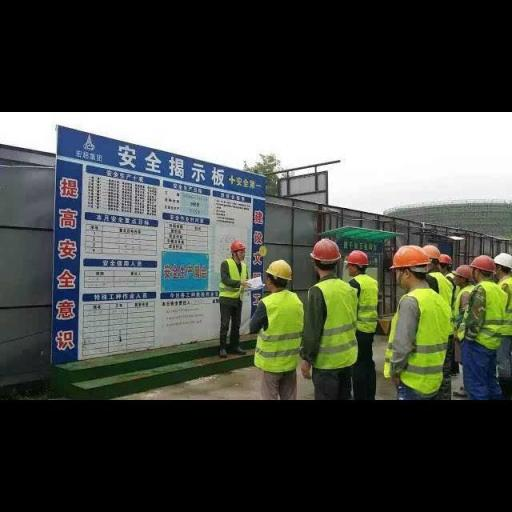Hardhat: (302, 236, 386, 403), (383, 233, 466, 399), (448, 235, 510, 403), (406, 222, 468, 363), (254, 255, 310, 399), (336, 246, 386, 400), (218, 238, 256, 380), (443, 250, 477, 384), (484, 238, 512, 352), (432, 230, 458, 346)
NO-Safety Vest: (384, 242, 430, 276), (262, 255, 298, 287), (305, 237, 343, 264), (466, 246, 496, 278), (447, 256, 476, 286), (416, 235, 443, 266), (346, 236, 370, 270), (488, 242, 512, 270), (228, 235, 249, 258), (435, 245, 454, 270)
vehicle: (376, 279, 452, 399), (301, 274, 363, 378), (250, 287, 310, 377), (425, 261, 466, 348), (343, 267, 384, 345), (469, 272, 503, 352), (446, 283, 483, 349), (216, 252, 254, 304), (493, 270, 512, 352)
